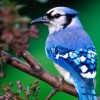bird: (21, 2, 100, 100)
